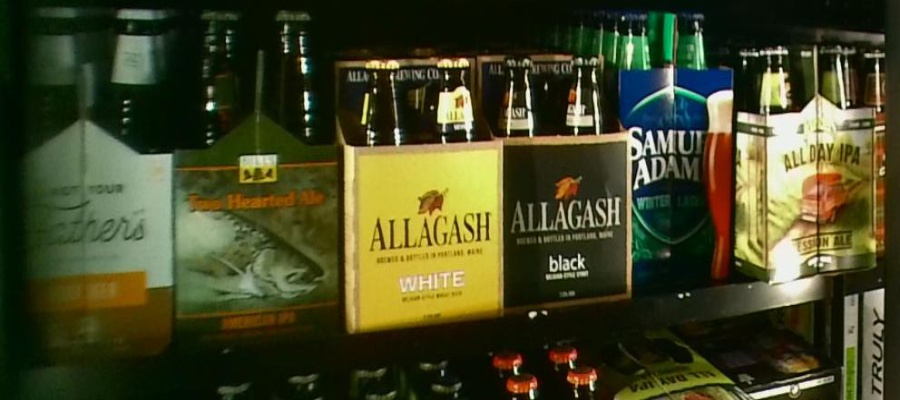bottle: (176, 3, 341, 346), (22, 1, 174, 361), (339, 51, 505, 332), (504, 45, 631, 318), (739, 41, 875, 278), (630, 1, 736, 290)
